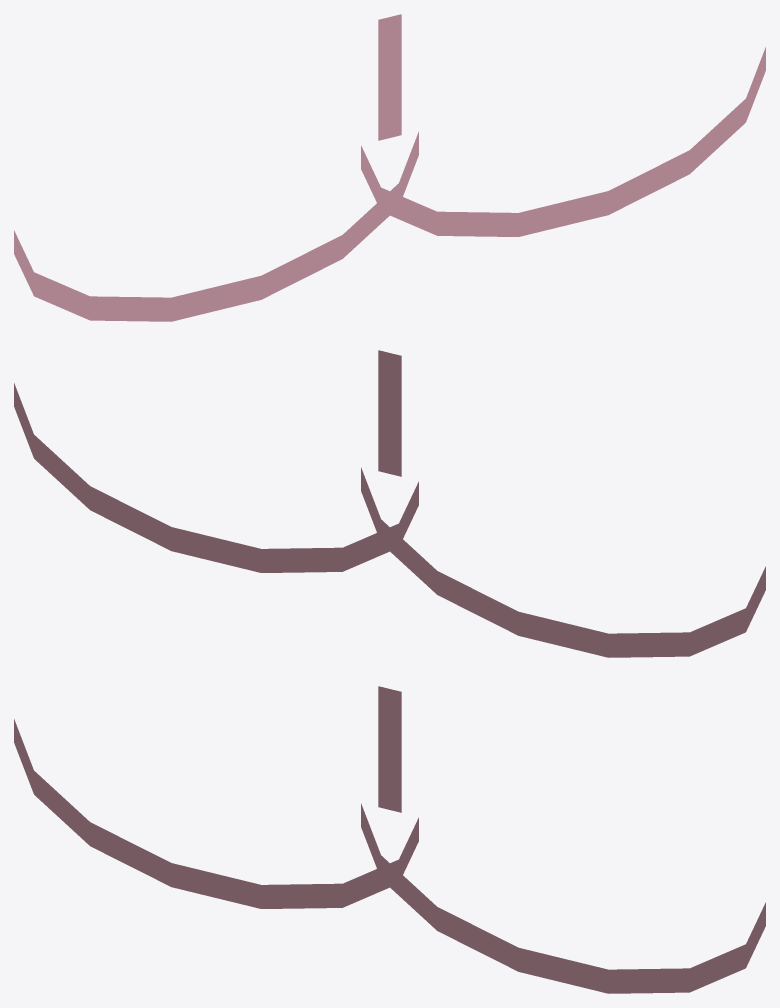
File: Cat_Mouth.glb
The picture shows the model from 3 angles, top to bottom: view 1: azimuth 30°, elevation 25°; view 2: azimuth 150°, elevation 25°; view 3: azimuth 330°, elevation 25°; orthographic projection.
Visible parts, largest first — view 1: Mesh; view 2: Mesh; view 3: Mesh.
Boxes of the visible parts, left/top/right/bottom form: Mesh: left=14, top=14, right=765, bottom=321; Mesh: left=14, top=350, right=765, bottom=657; Mesh: left=14, top=686, right=765, bottom=993.
Bounding box in the file's own units: 0.13 × 0.0415 × 0.
